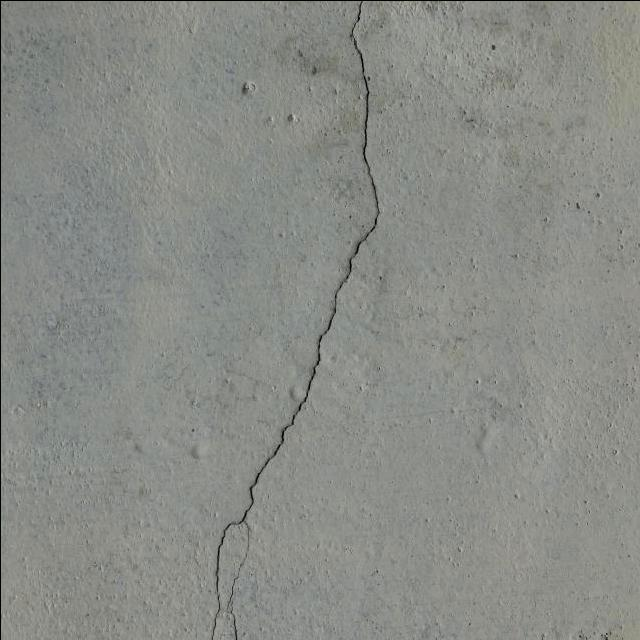SurfaceCrack: (186, 0, 408, 640)
